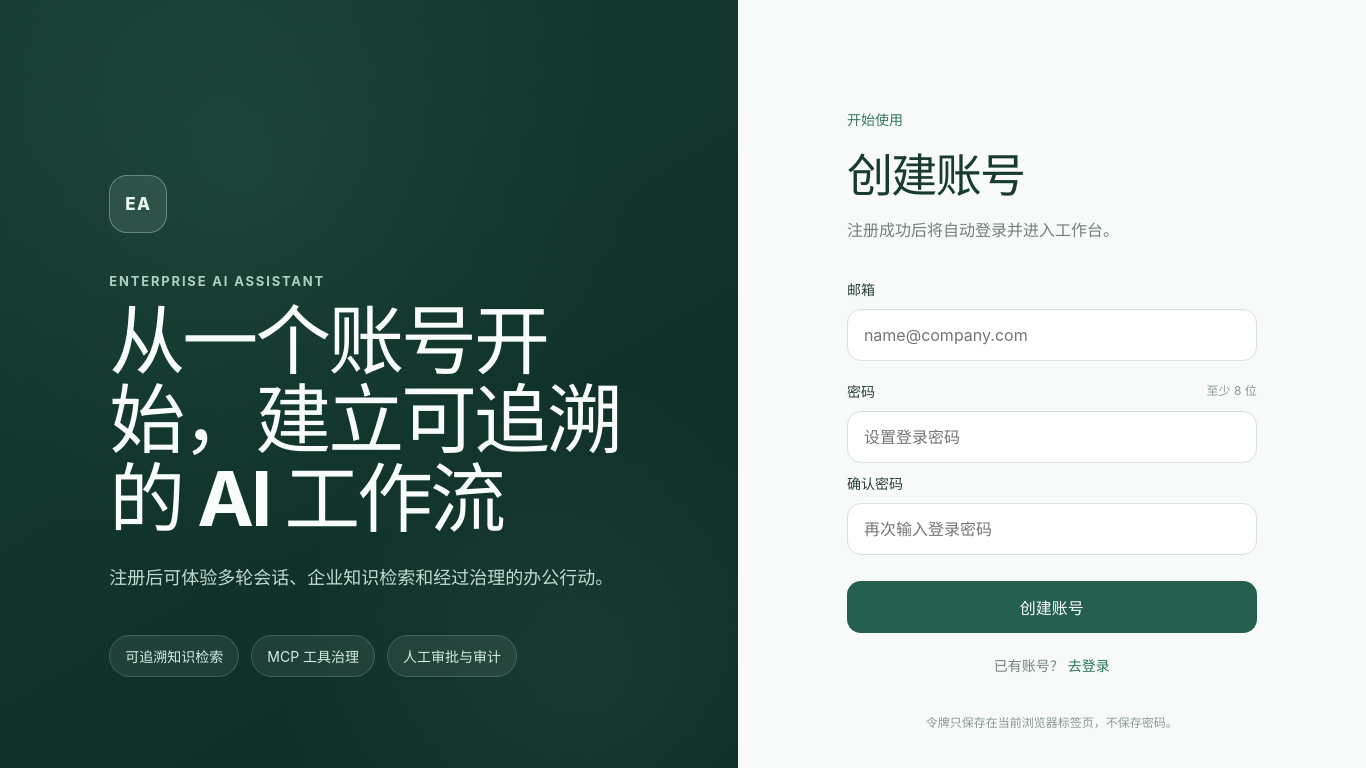
Test case: RegisterView › 后端注册错误显示中文消息，且按钮恢复可点击状态
Type " Demo@Example.com " into the field with test id "register-email".
click(1052, 335); type(" Demo@Example.com ")  # box [847,309,1257,361]
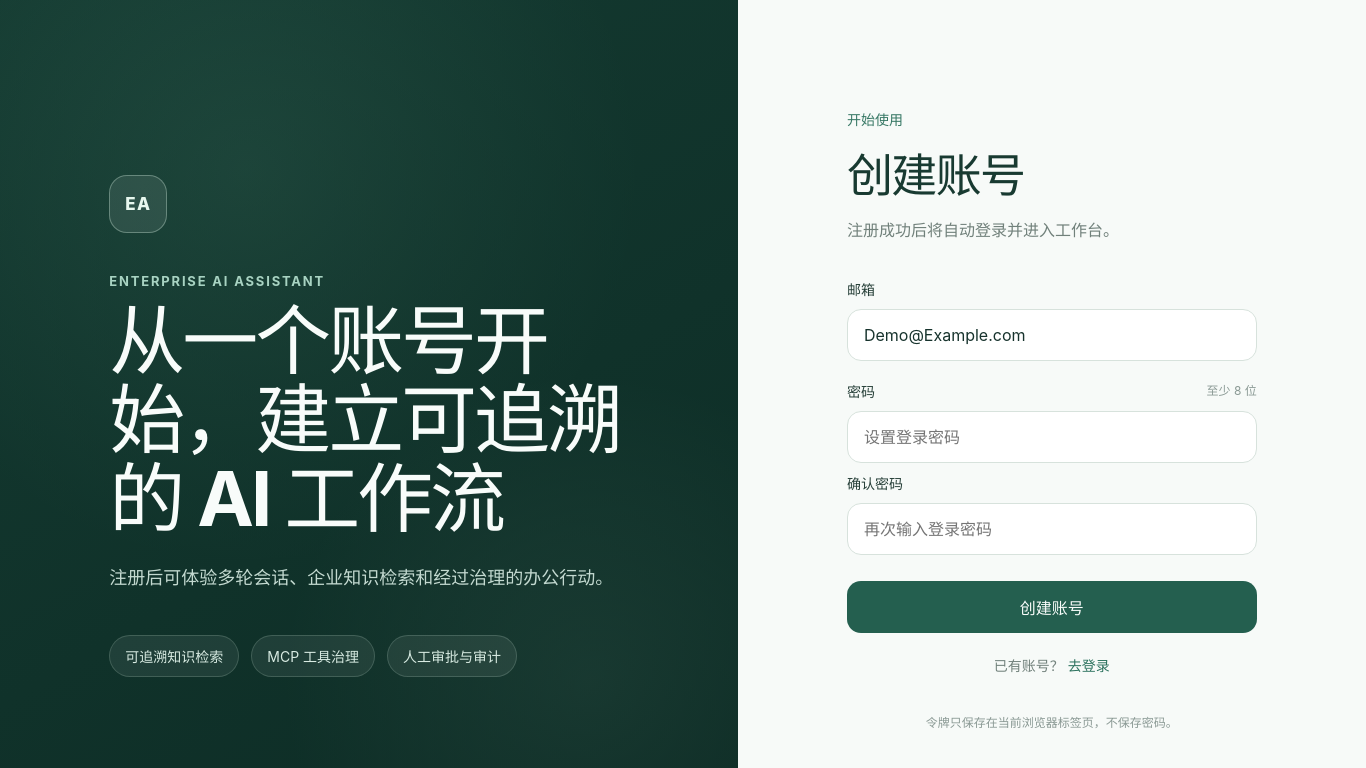
Type "password123" into the password field with test id "register-password".
click(1052, 437); type("password123")  # box [847,411,1257,463]
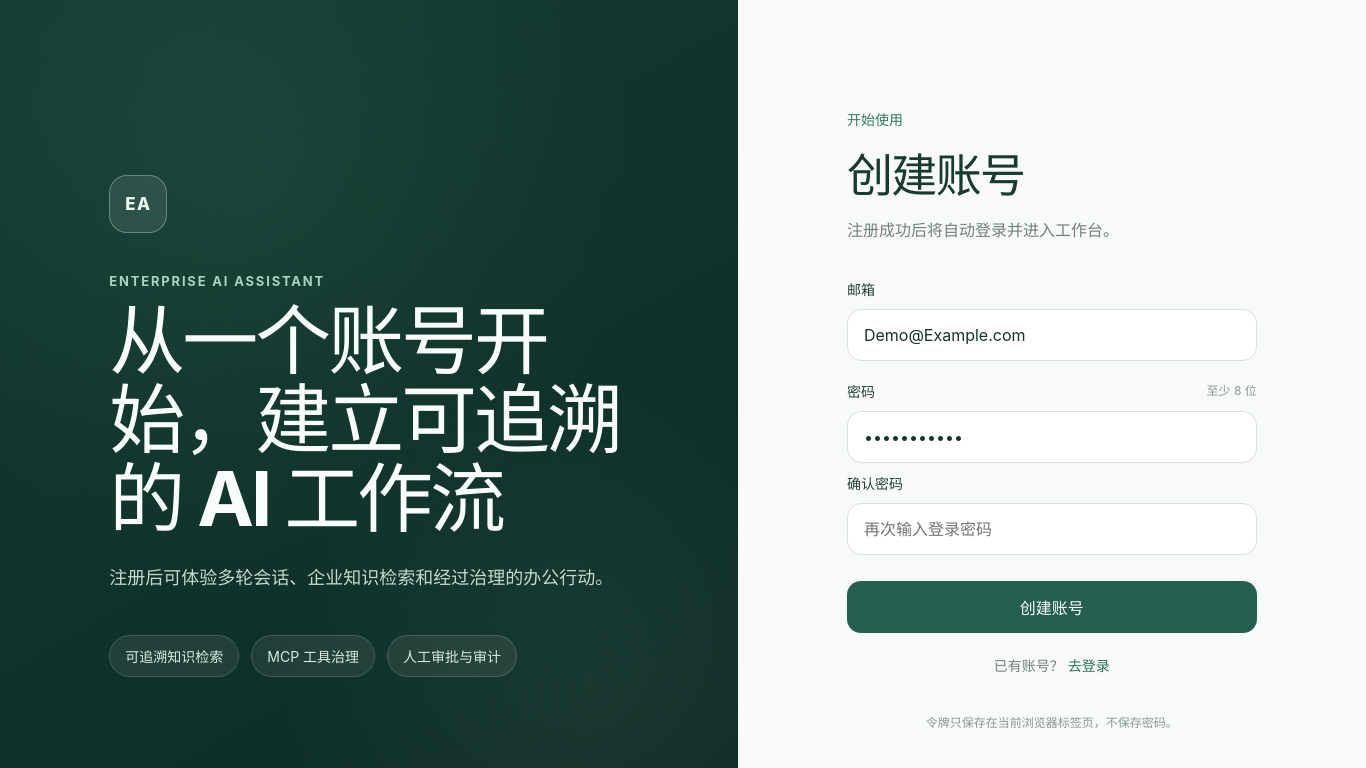
Type "password123" into the password field with test id "register-confirm-password".
click(1052, 529); type("password123")  # box [847,503,1257,555]
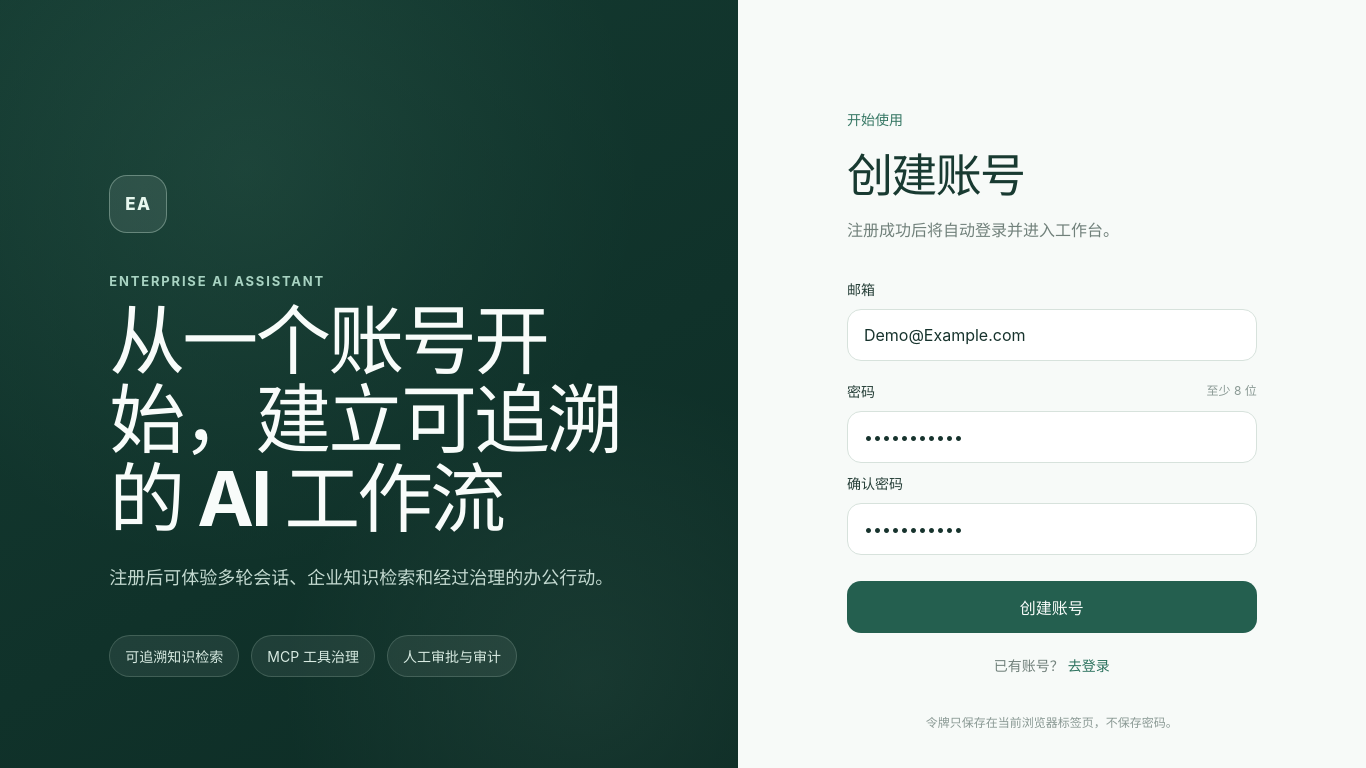
Submit the form, box [847,279,1257,633]
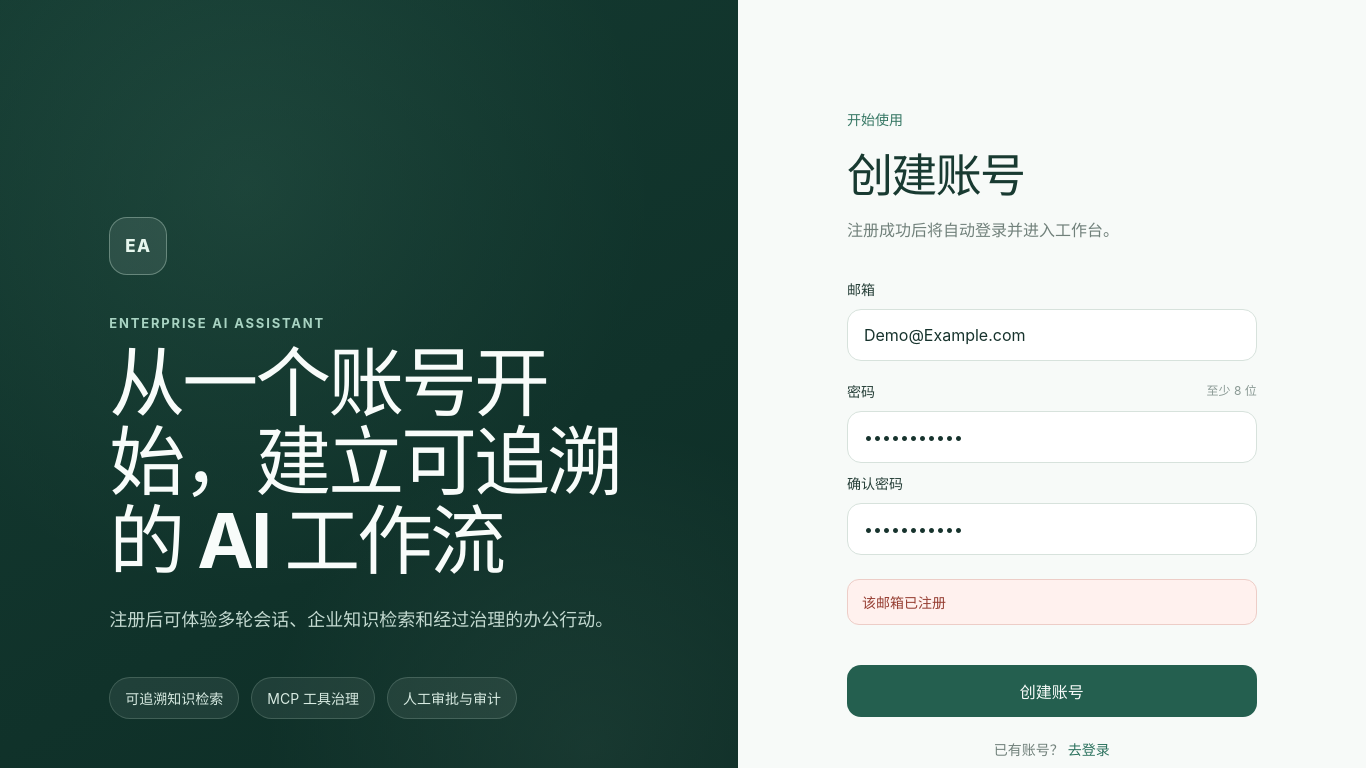
Expected: the submit button is enabled, [847,665,1257,717]
Now the message "该邮箱已注册" is shown, box [847,579,1257,625]
